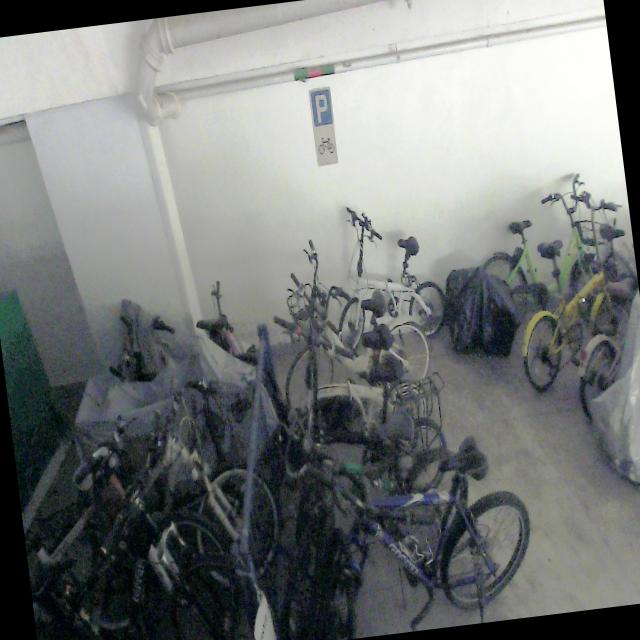bike: (8, 366, 288, 640), (256, 406, 541, 640), (10, 397, 245, 640), (262, 372, 480, 604), (501, 184, 640, 392), (269, 291, 439, 458), (288, 225, 436, 412), (468, 170, 610, 340), (322, 195, 450, 358)
